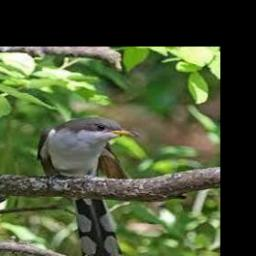Cuckoo: (37, 116, 140, 256)
